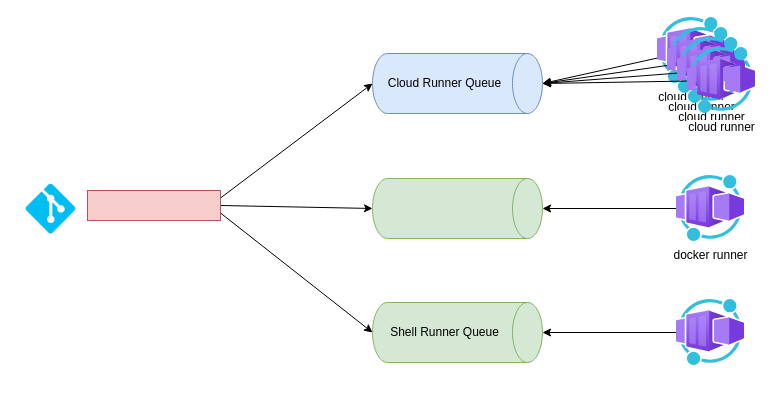
The diagram is 772 pixels wide and 403 high, and some of its shapes have lost their labels. The centre of each missing label's shape, as x and y in pixels:
Bitbucket: pixel 50 208
bitbucket-pipeline.yml: pixel 153 205
Docker Runner Queue: pixel 457 208
shell runner: pixel 710 332
